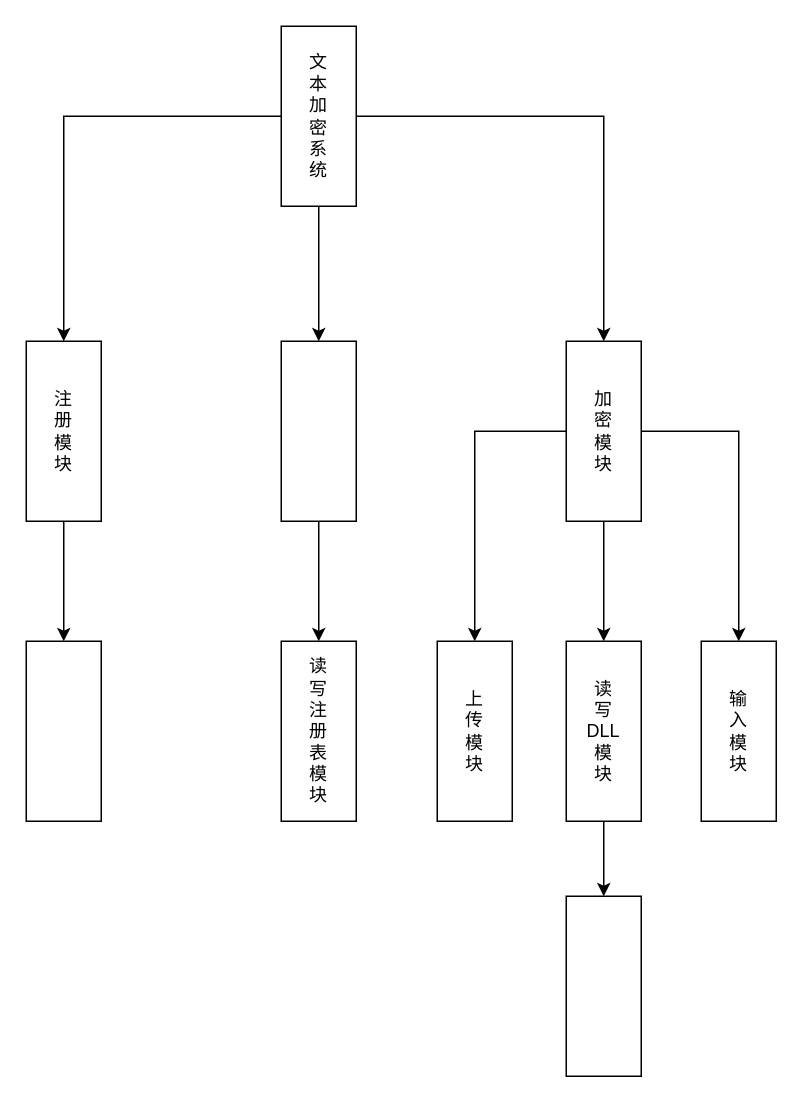
The diagram is 803 pixels wide and 1103 high, and some of its shapes have lost their labels. Each missing label, with the box of its shape:
加 密 显 示 模 块: (565, 895, 641, 1076)
登 录 模 块: (280, 340, 356, 521)
获 取 MAC 地 址 模 块: (25, 640, 101, 821)
